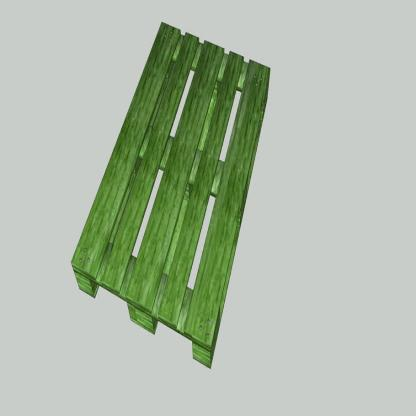BoxFace: (68, 16, 271, 378)
